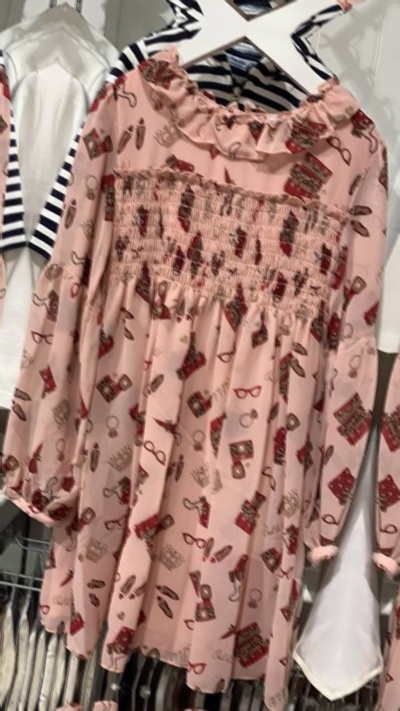Dress: (0, 34, 400, 697), (0, 0, 51, 639), (351, 95, 400, 711), (0, 685, 306, 711), (81, 0, 400, 23)
